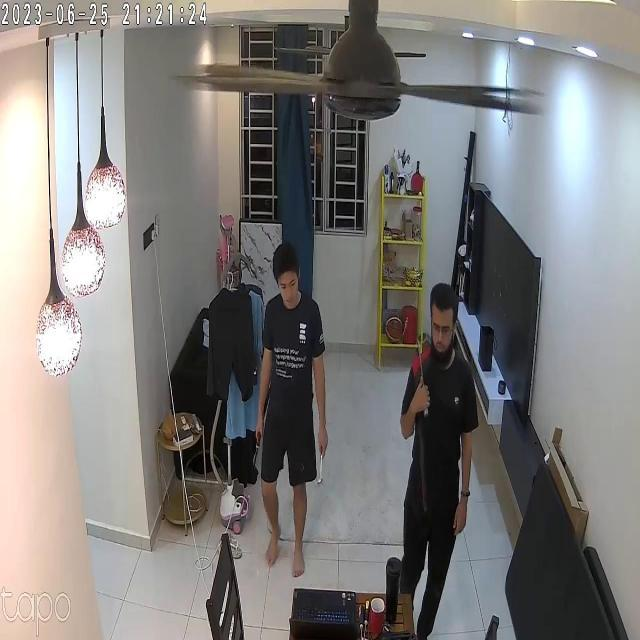Knife: (407, 334, 438, 414)
